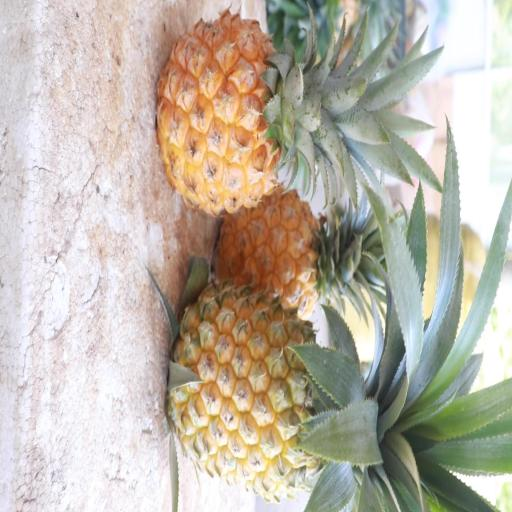Pineapple - v8 v1: (166, 276, 387, 507), (154, 4, 356, 221), (216, 182, 380, 319)
